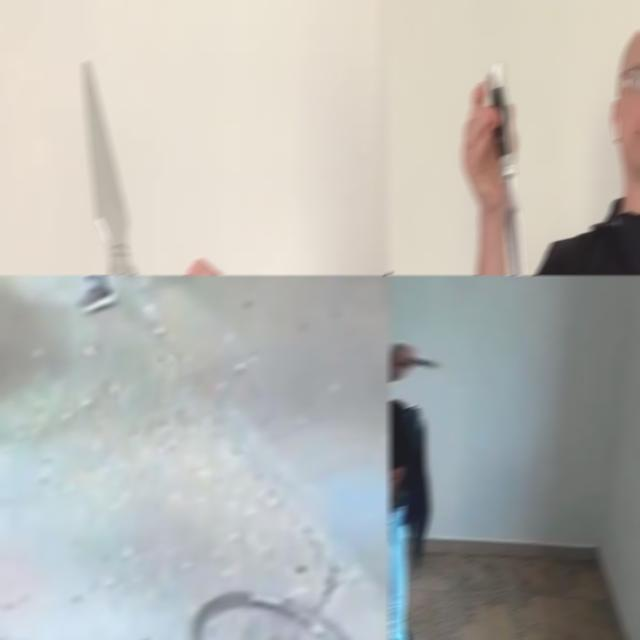Knife: (406, 354, 444, 370)
Knife_Handle: (82, 58, 266, 275), (462, 58, 532, 275), (389, 342, 446, 374)
